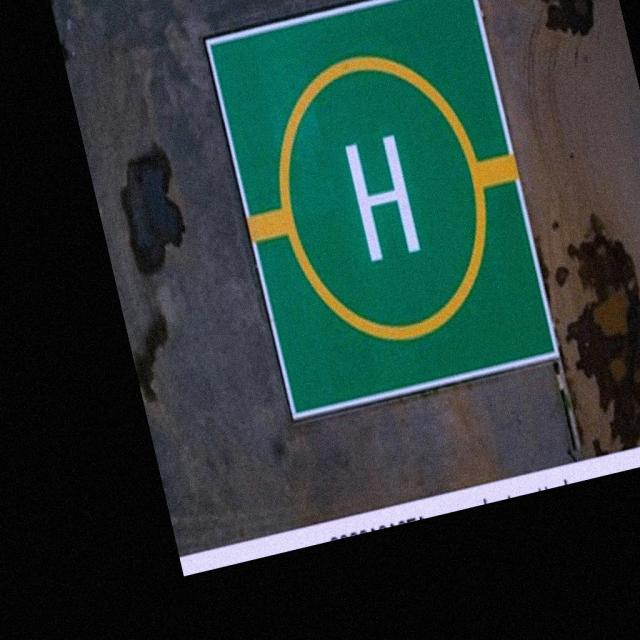helipad: (275, 52, 493, 344)
